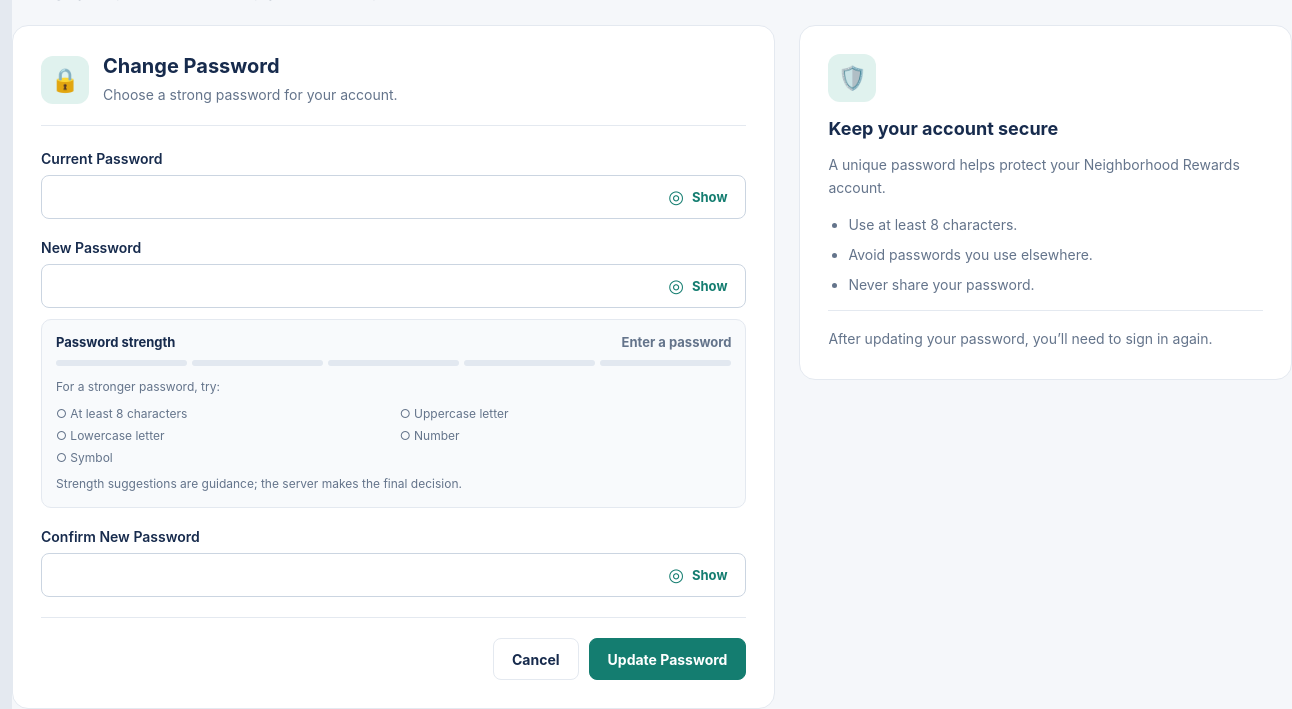
Test: ChangePassword Component › validates required fields
(page scrolled)
What coordinates should you click on to do the following:
click the button "Update Password"
I would click on:
 (668, 659)
Its box is [589,638,746,680].
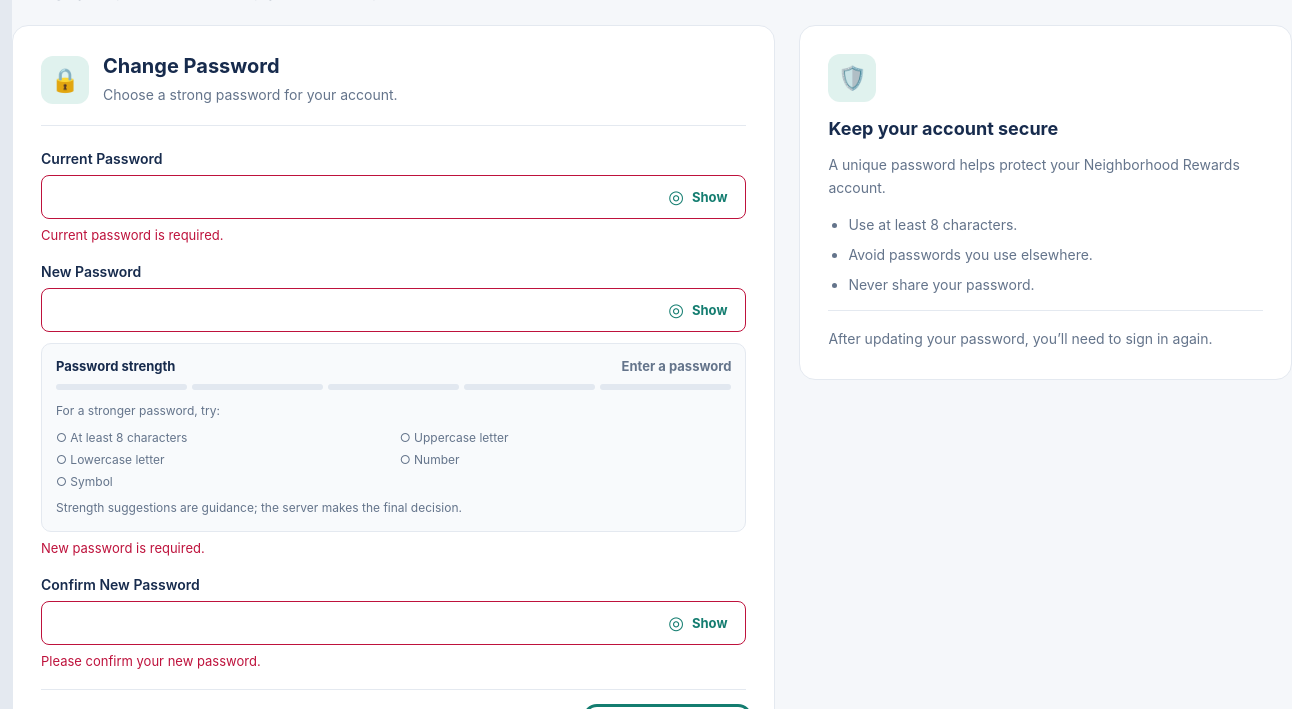
expect the text "Current password is required." is shown: met, box [41,227,223,243]
expect the text "New password is required." is shown: met, box [41,540,205,556]
expect the text "Please confirm your new password." is shown: met, box [41,653,261,669]
